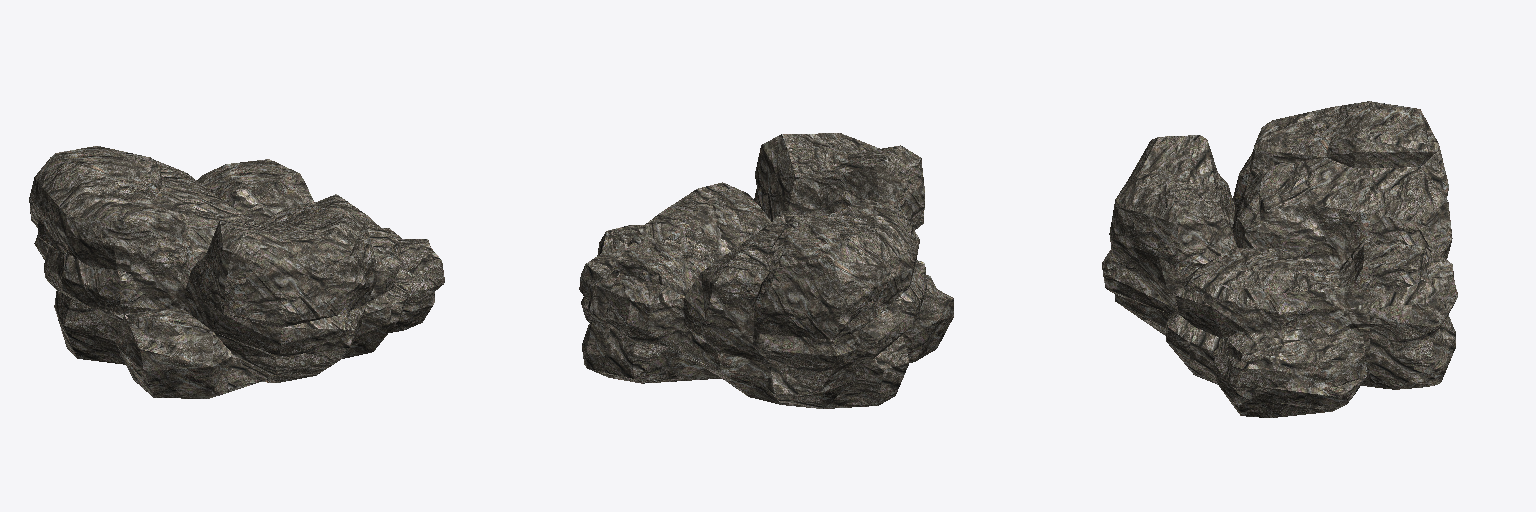
The picture shows the model from 3 angles: view 1: azimuth 30°, elevation 25°; view 2: azimuth 150°, elevation 25°; view 3: azimuth 270°, elevation 25°; orthographic projection.
Visible parts, largest first — view 1: ModularRockOne300; view 2: ModularRockOne300; view 3: ModularRockOne300.
Boxes of the visible parts, x1=… form: ModularRockOne300: x1=29, y1=146, x2=444, y2=398; ModularRockOne300: x1=579, y1=133, x2=953, y2=408; ModularRockOne300: x1=1102, y1=101, x2=1457, y2=417.
Size of the model in its own units: 8.36 by 4.16 by 7.55.
Materials: 1 (1 with a texture image).